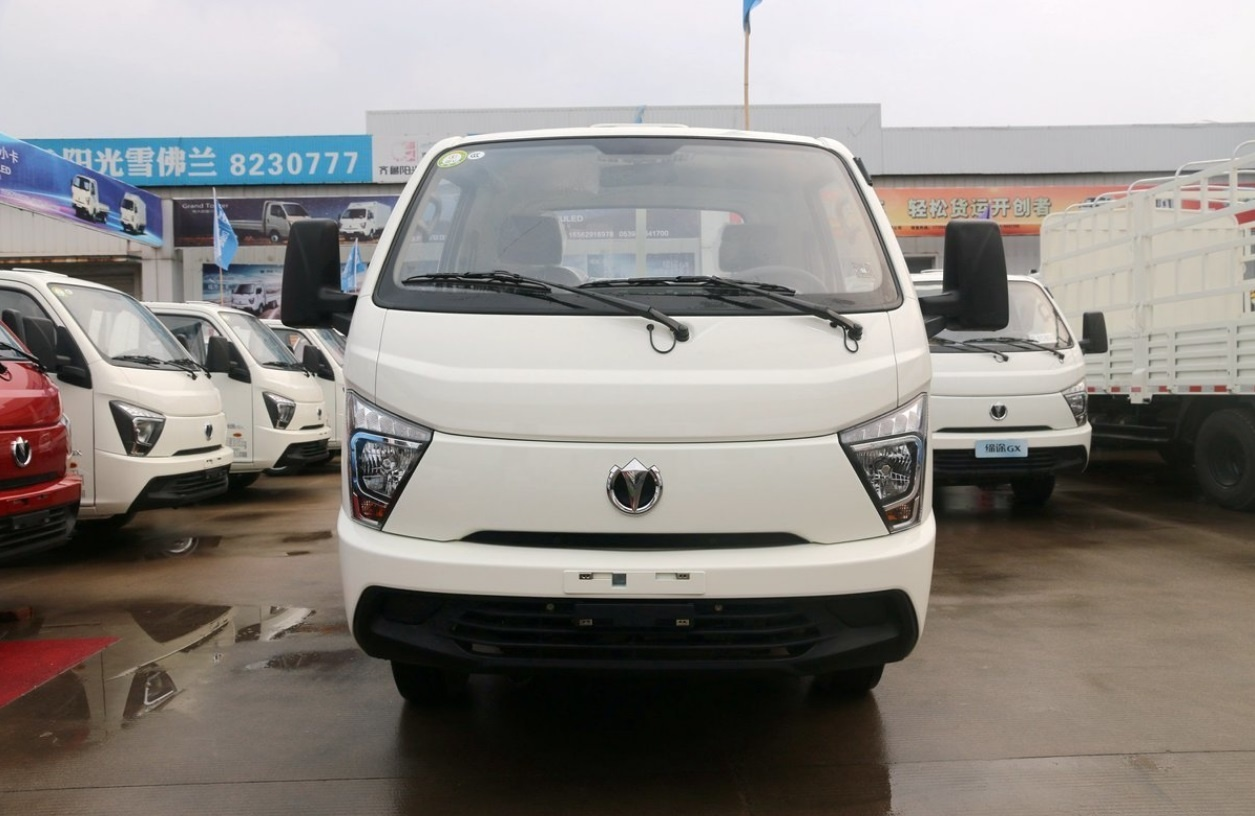truck: (294, 123, 1002, 715)
